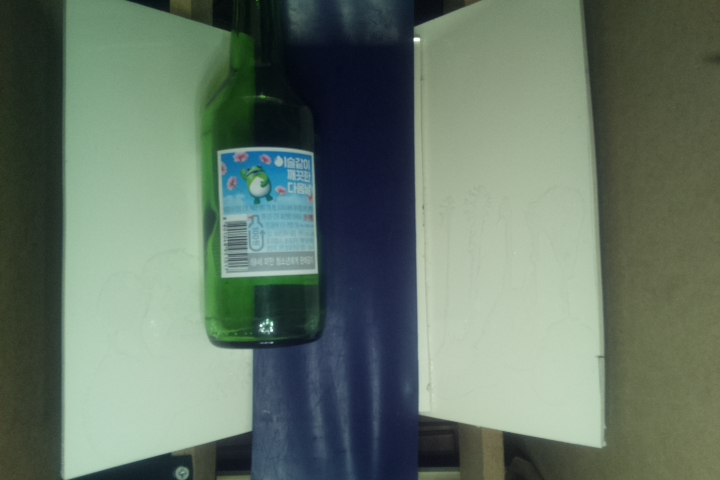soju: (196, 1, 332, 351)
